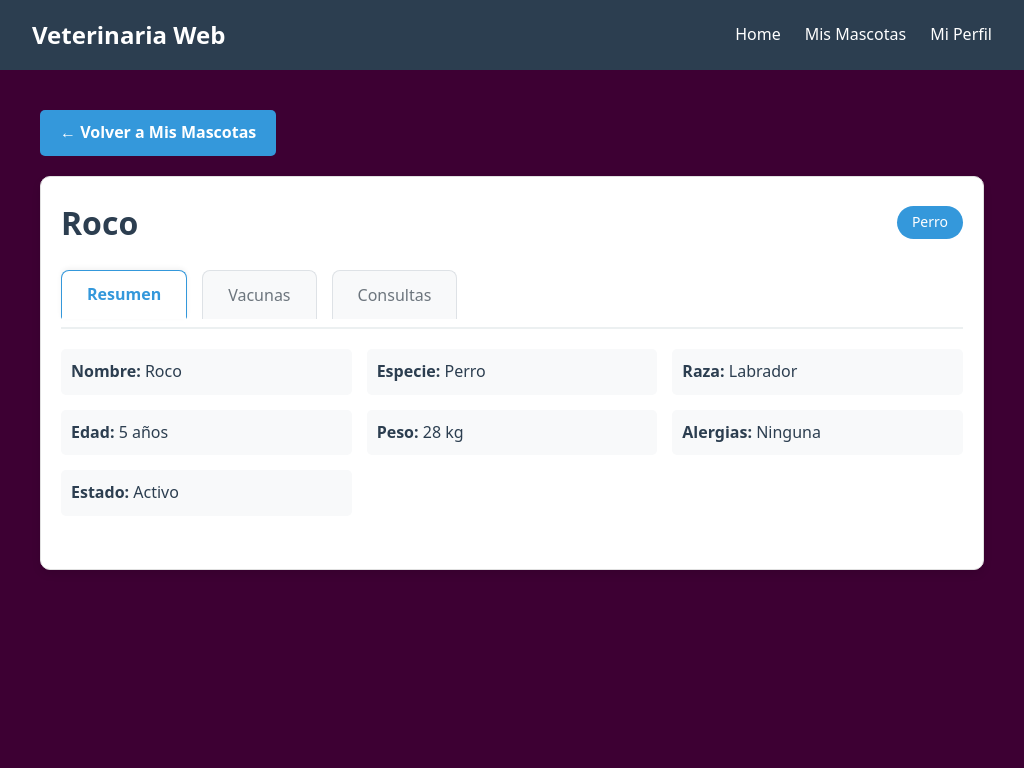
Scenario: Pet Profile Page - Veterinaria App › should switch to Vaccines tab
Click the button "Vacunas".
click(259, 295)  # box x1=202 y1=270 x2=316 y2=319
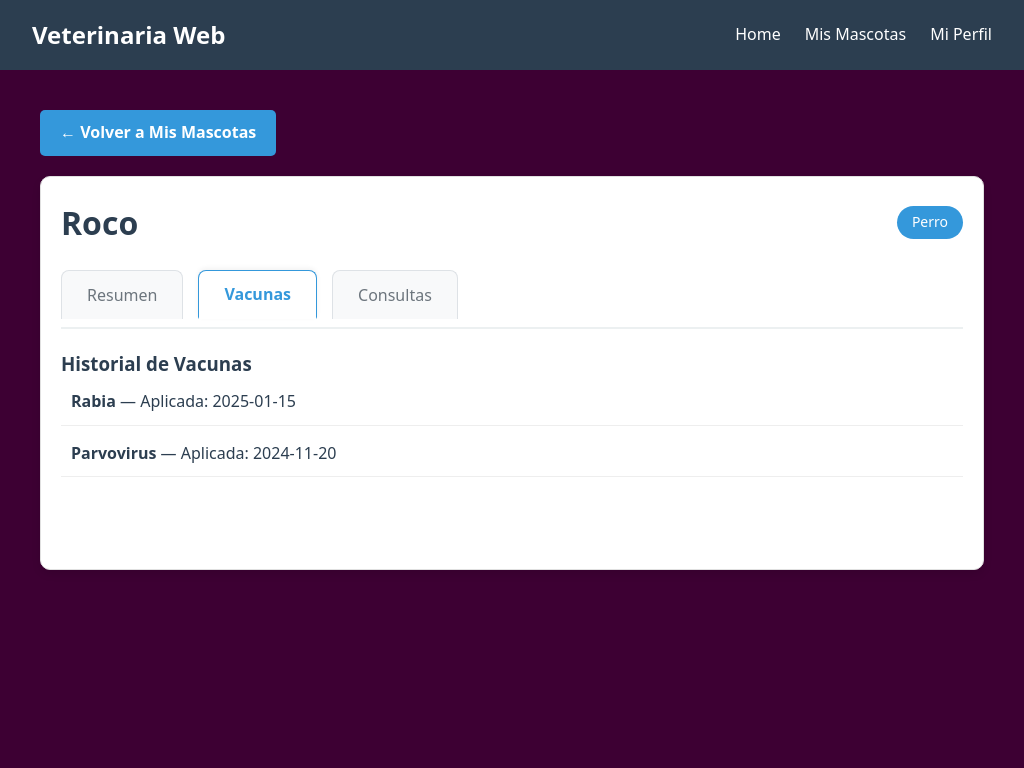
expect the heading "Historial de Vacunas" is shown: met, box x1=61 y1=351 x2=252 y2=376
expect the text "Rabia" is shown: met, box x1=71 y1=390 x2=116 y2=412
expect the text "Parvovirus" is shown: met, box x1=71 y1=442 x2=156 y2=464
